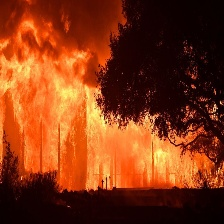fire: (2, 20, 224, 191)
